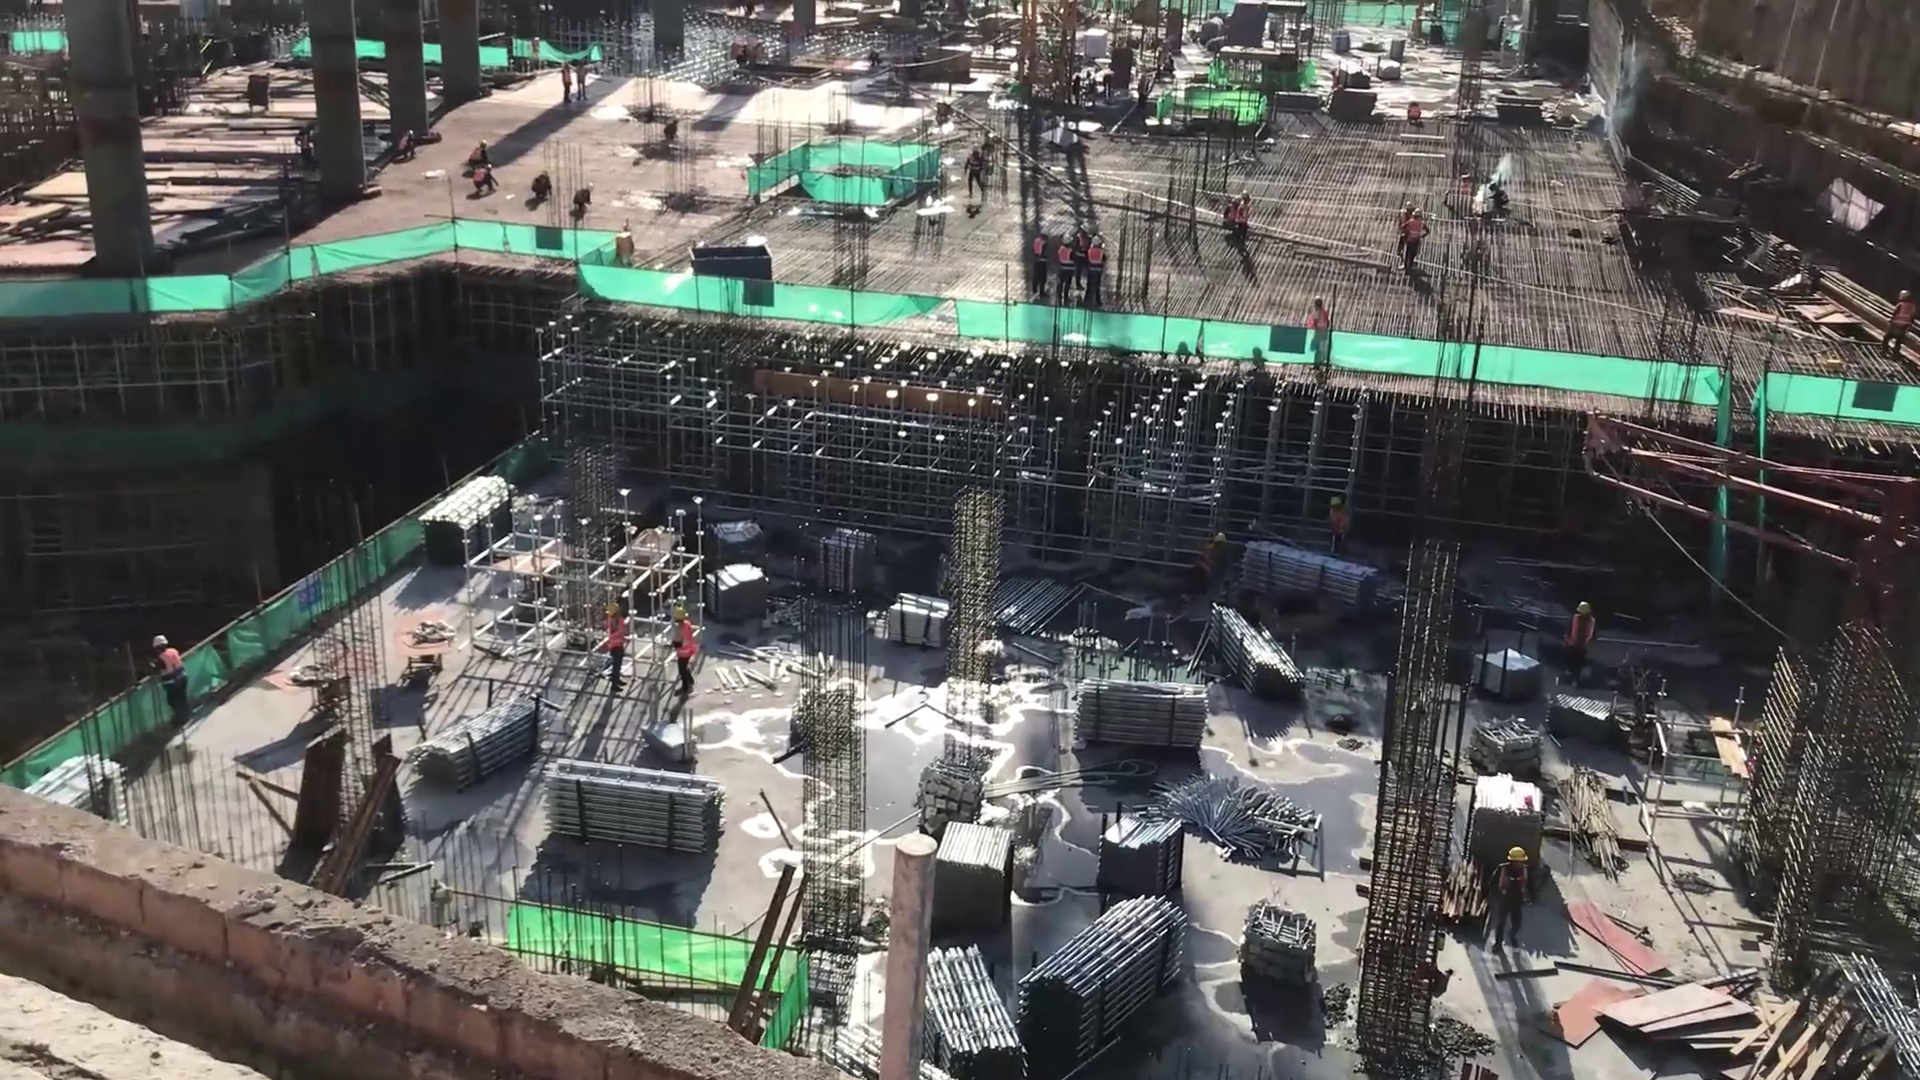helmet: (1499, 842, 1532, 866), (601, 598, 625, 622), (149, 632, 168, 660), (666, 606, 693, 625), (1575, 599, 1595, 619), (1897, 284, 1912, 304), (1238, 187, 1254, 204), (1230, 190, 1243, 209), (1077, 219, 1093, 233), (1059, 234, 1075, 248), (1401, 200, 1417, 213), (1086, 234, 1103, 247), (1038, 221, 1050, 236), (1410, 211, 1426, 222)
person: (1486, 842, 1541, 963), (146, 632, 196, 731), (663, 602, 704, 703), (599, 598, 633, 700), (1565, 595, 1602, 688), (1880, 282, 1917, 362), (1391, 208, 1435, 276), (1228, 185, 1265, 253), (1030, 223, 1052, 302), (1086, 234, 1108, 304), (1055, 232, 1075, 306), (1217, 190, 1246, 234), (468, 162, 501, 200), (567, 181, 597, 222), (391, 126, 422, 166), (526, 166, 555, 204), (464, 136, 493, 172), (1396, 199, 1420, 228), (1077, 217, 1092, 260)
vest: (158, 647, 191, 696), (1495, 862, 1530, 907), (667, 619, 698, 667), (1571, 619, 1599, 656), (604, 615, 629, 657), (1889, 299, 1915, 334), (1083, 246, 1105, 282), (1030, 232, 1049, 269), (1403, 222, 1427, 248), (1225, 208, 1253, 231), (1060, 250, 1075, 278)
